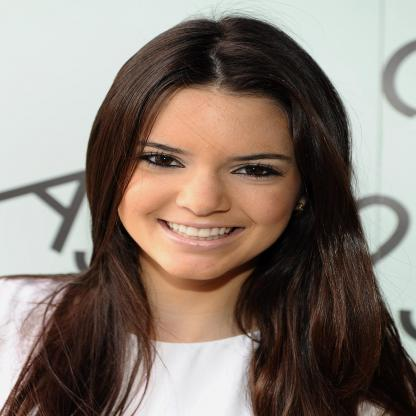long-hair: (29, 288, 400, 350)
